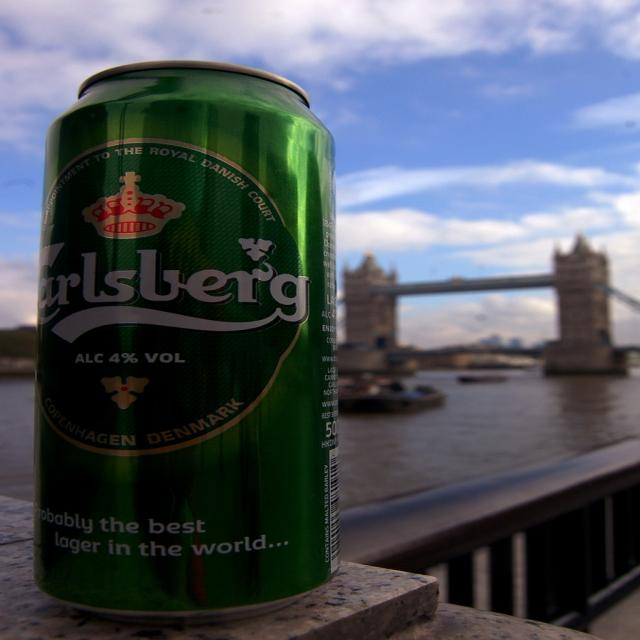carlsberg: (29, 137, 315, 452)
